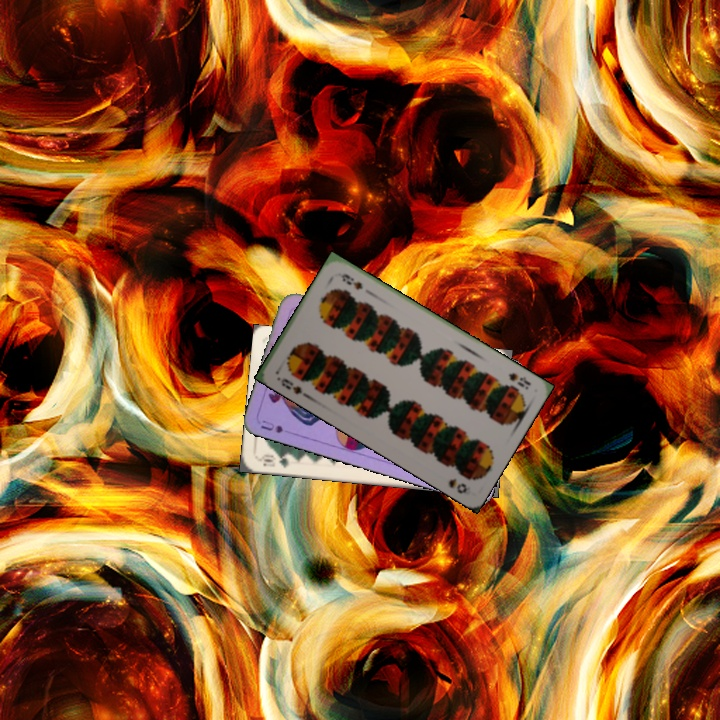G10: (255, 450, 291, 470)
S8: (504, 369, 533, 393), (277, 374, 305, 397)
SU: (256, 416, 285, 436)
